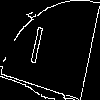I: (25, 25, 46, 75)
